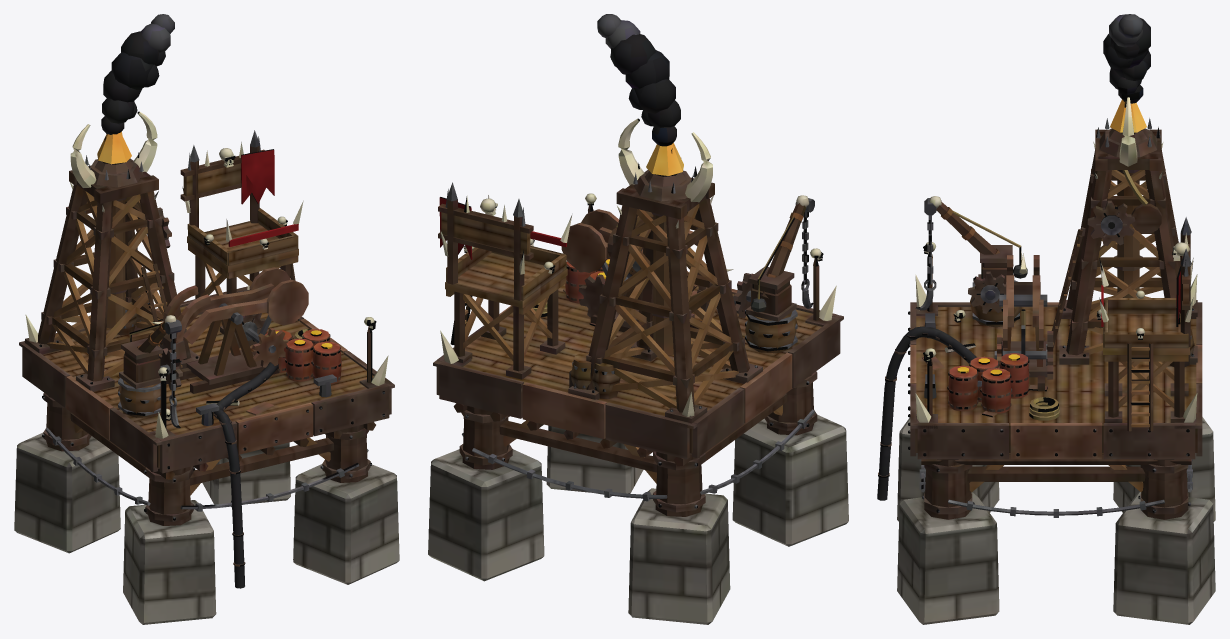
Rendered from orc_oil_platform.glb.
The picture shows the model from 3 angles, left to right: view 1: azimuth 30°, elevation 25°; view 2: azimuth 150°, elevation 25°; view 3: azimuth 270°, elevation 25°; orthographic projection. The views are drawn at different scales.
Parts seen in each view (by area): view 1: Static_Mesh, Anim_Smoke, Anim_Banners, Anim_Crane, Anim_Drill; view 2: Static_Mesh, Anim_Smoke, Anim_Crane, Anim_Drill, Anim_Banners; view 3: Static_Mesh, Anim_Smoke, Anim_Crane, Anim_Drill.
Boxes of the visible parts, x1=… form: Static_Mesh: x1=14, y1=111, x2=399, y2=624; Anim_Smoke: x1=97, y1=14, x2=174, y2=164; Anim_Banners: x1=228, y1=149, x2=298, y2=246; Anim_Crane: x1=121, y1=315, x2=181, y2=428; Anim_Drill: x1=106, y1=197, x2=126, y2=328; Static_Mesh: x1=428, y1=118, x2=848, y2=624; Anim_Smoke: x1=597, y1=14, x2=683, y2=175; Anim_Crane: x1=748, y1=195, x2=814, y2=312; Anim_Drill: x1=651, y1=200, x2=673, y2=355; Anim_Banners: x1=439, y1=197, x2=566, y2=259; Static_Mesh: x1=877, y1=97, x2=1215, y2=624; Anim_Smoke: x1=1103, y1=14, x2=1150, y2=132; Anim_Crane: x1=915, y1=196, x2=1027, y2=310; Anim_Drill: x1=1114, y1=170, x2=1142, y2=297.
Size of the model in its own units: 5.3 by 9.91 by 5.63.
Materials: 2 (2 with a texture image).
